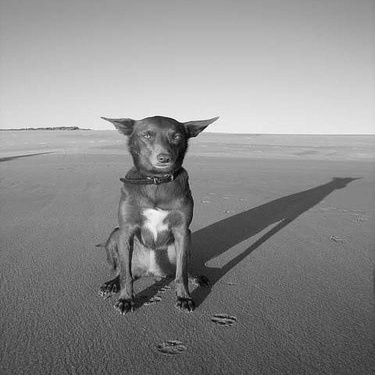dog: (77, 109, 229, 323)
